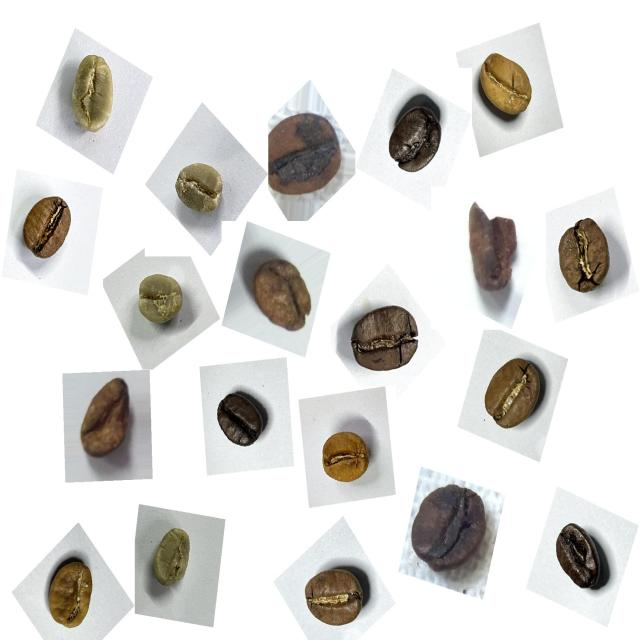bad: (402, 472, 496, 586), (256, 102, 348, 209), (459, 198, 530, 304), (243, 244, 321, 340), (71, 373, 144, 473)
dark: (343, 294, 431, 387), (381, 89, 454, 186), (545, 512, 618, 603), (208, 379, 277, 462)
green: (57, 46, 127, 147), (141, 520, 205, 602), (168, 150, 235, 225), (128, 264, 194, 340)
light: (469, 43, 543, 133), (36, 548, 106, 637), (313, 419, 380, 496)
medium: (472, 346, 554, 442), (546, 209, 624, 307), (296, 556, 375, 639), (12, 186, 83, 272)
